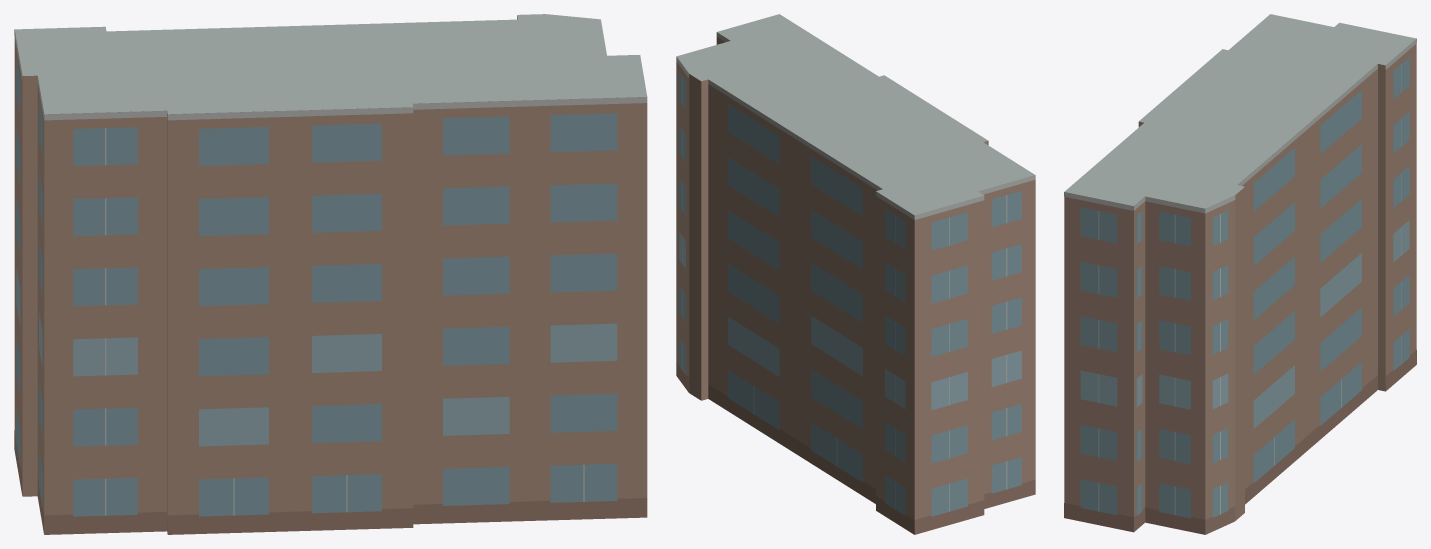
File: survey-upis-32960292.glb
3 renders of one model, left to right at view 1: azimuth 30°, elevation 25°; view 2: azimuth 150°, elevation 25°; view 3: azimuth 270°, elevation 25°, orthographic. The views are drawn at different scales.
Visible parts, largest first — view 1: survey-upis-32960292.tmp; view 2: survey-upis-32960292.tmp; view 3: survey-upis-32960292.tmp.
Boxes of the visible parts, x1,y1,x2,y2 form: survey-upis-32960292.tmp: [14, 14, 647, 534]; survey-upis-32960292.tmp: [676, 14, 1035, 534]; survey-upis-32960292.tmp: [1064, 14, 1416, 534].
Size of the model in its own units: 21.4 by 16.7 by 16.37.
